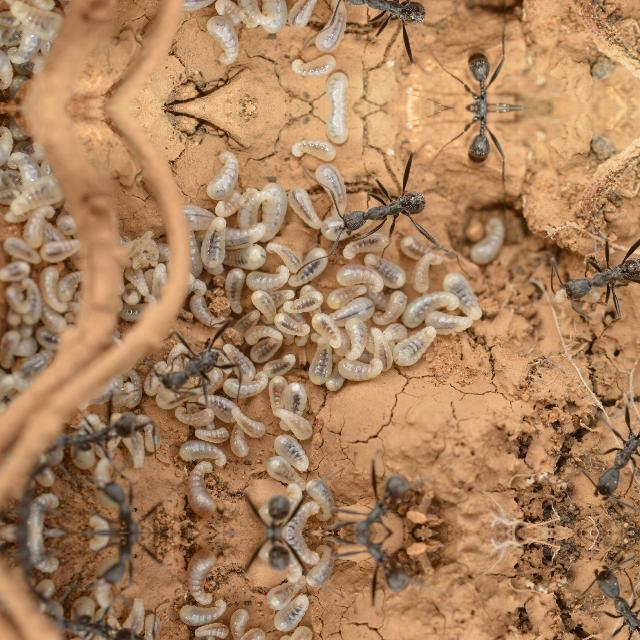Apheanogaster: (536, 228, 638, 316), (320, 172, 444, 242), (317, 466, 427, 532), (317, 533, 427, 599), (146, 326, 246, 396), (0, 532, 64, 626), (51, 402, 152, 461), (0, 438, 64, 530), (582, 406, 640, 502), (318, 0, 444, 42), (86, 534, 168, 592), (444, 108, 522, 168), (444, 46, 522, 106), (86, 474, 168, 530), (582, 562, 638, 640), (50, 604, 152, 640), (245, 532, 303, 572), (245, 493, 303, 532)
